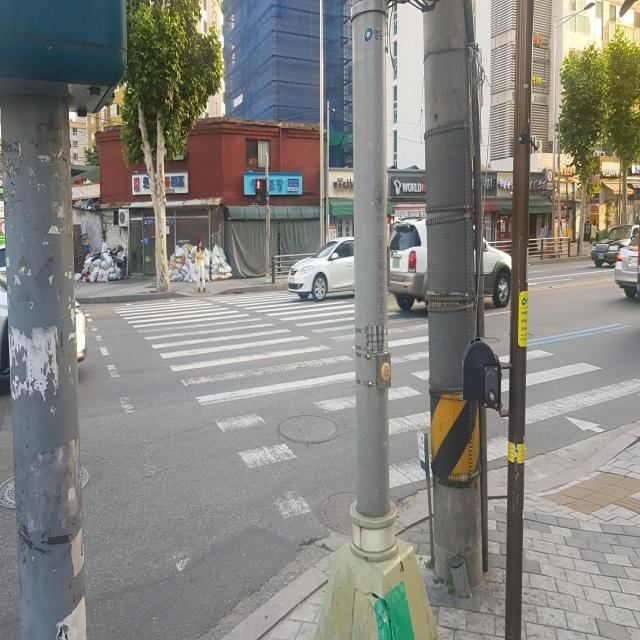빨간불: (255, 178, 267, 204)
횡단보도: (109, 281, 640, 518)
